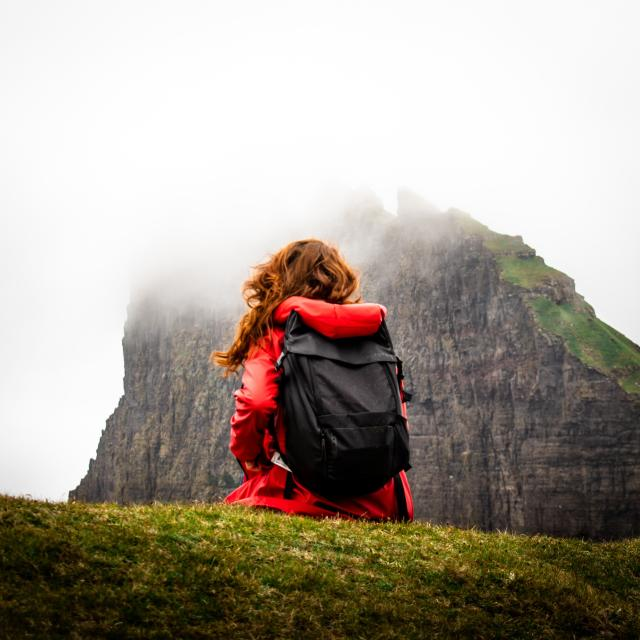backpack: (250, 305, 414, 495)
